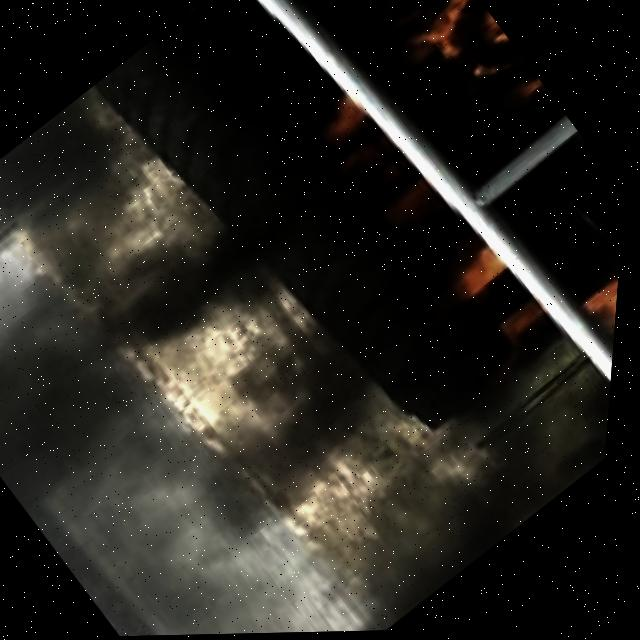Fire: (308, 90, 552, 360), (277, 0, 568, 177), (578, 222, 626, 401)
Smoke: (0, 41, 543, 640), (0, 204, 240, 640), (428, 322, 621, 534)
